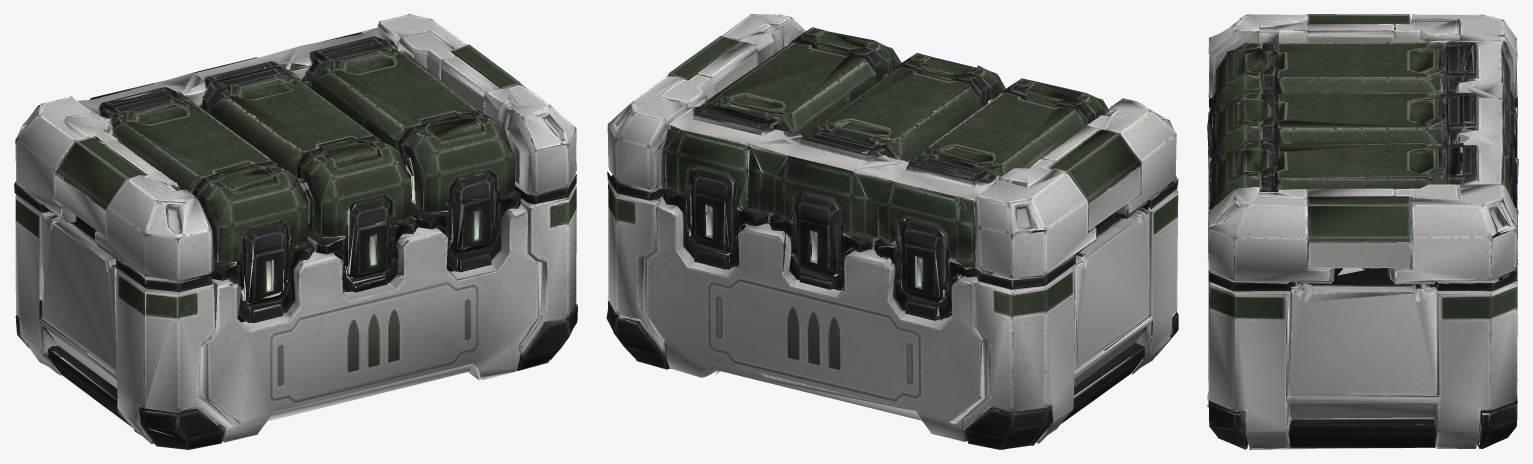
File: shop_ammo.glb
3 views of the same model, side by side, from view 1: azimuth 30°, elevation 25°; view 2: azimuth 150°, elevation 25°; view 3: azimuth 270°, elevation 25° (orthographic).
Parts seen in each view (by area): view 1: Mesh_0; view 2: Mesh_0; view 3: Mesh_0.
Boxes of the visible parts, box(x1,y1,x2,y2) form: Mesh_0: box(14, 14, 577, 449); Mesh_0: box(606, 14, 1178, 449); Mesh_0: box(1207, 14, 1518, 449).
Bounding box in the file's own units: 0.5591 × 0.307 × 0.346.
1 material, 1 textured.
